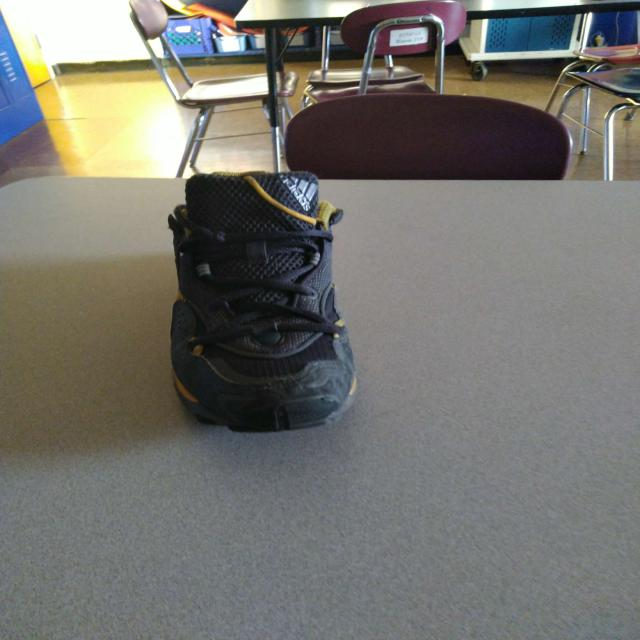shoes: (168, 168, 358, 434)
